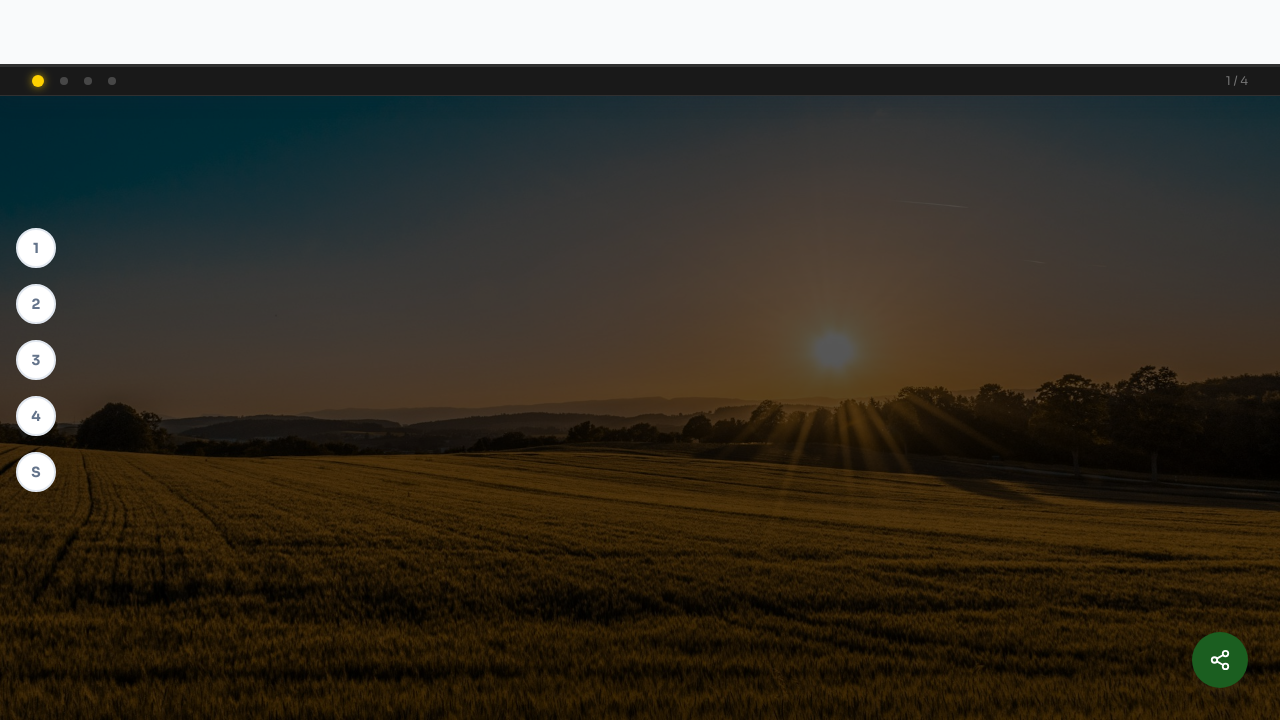
Scenario: StoryPage › closes share modal on close button click
Open modal
Click the button named "Partager": (1220, 660) x1=1192 y1=632 x2=1248 y2=688
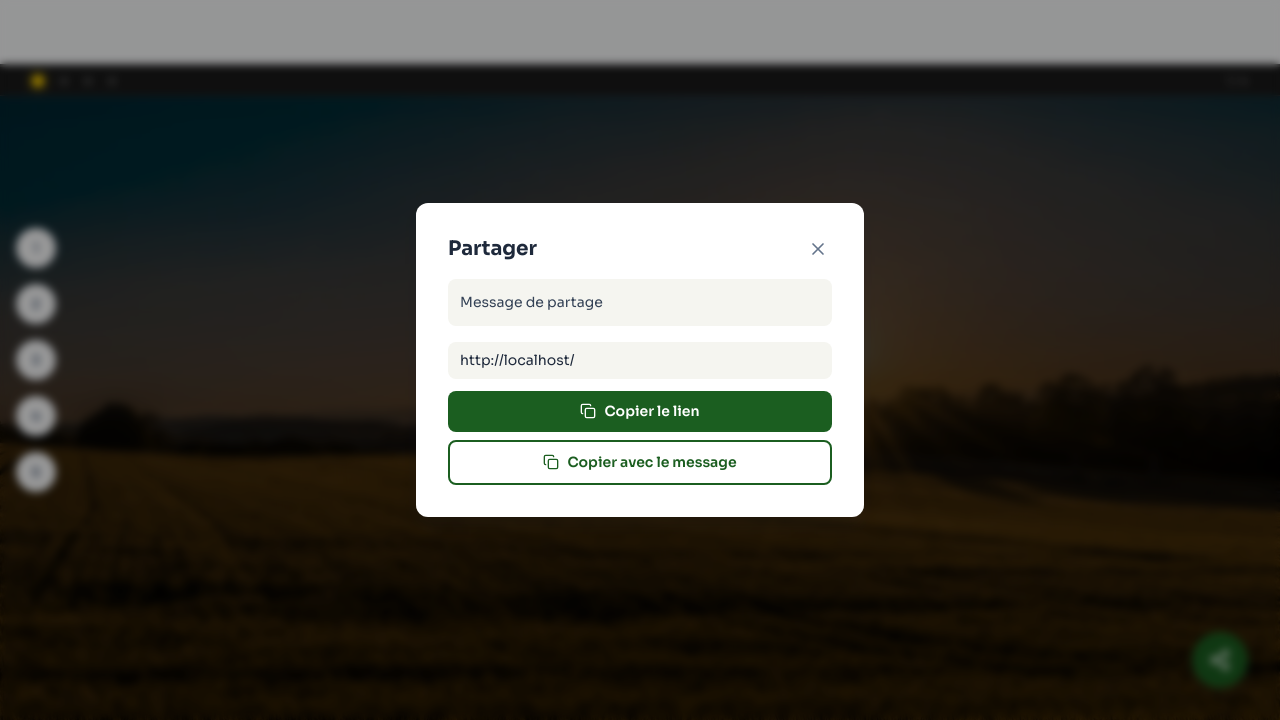
Now the heading "Partager" is shown, box x1=448 y1=236 x2=537 y2=262
Close modal
Click the button named "Fermer": (818, 249) x1=804 y1=235 x2=832 y2=263
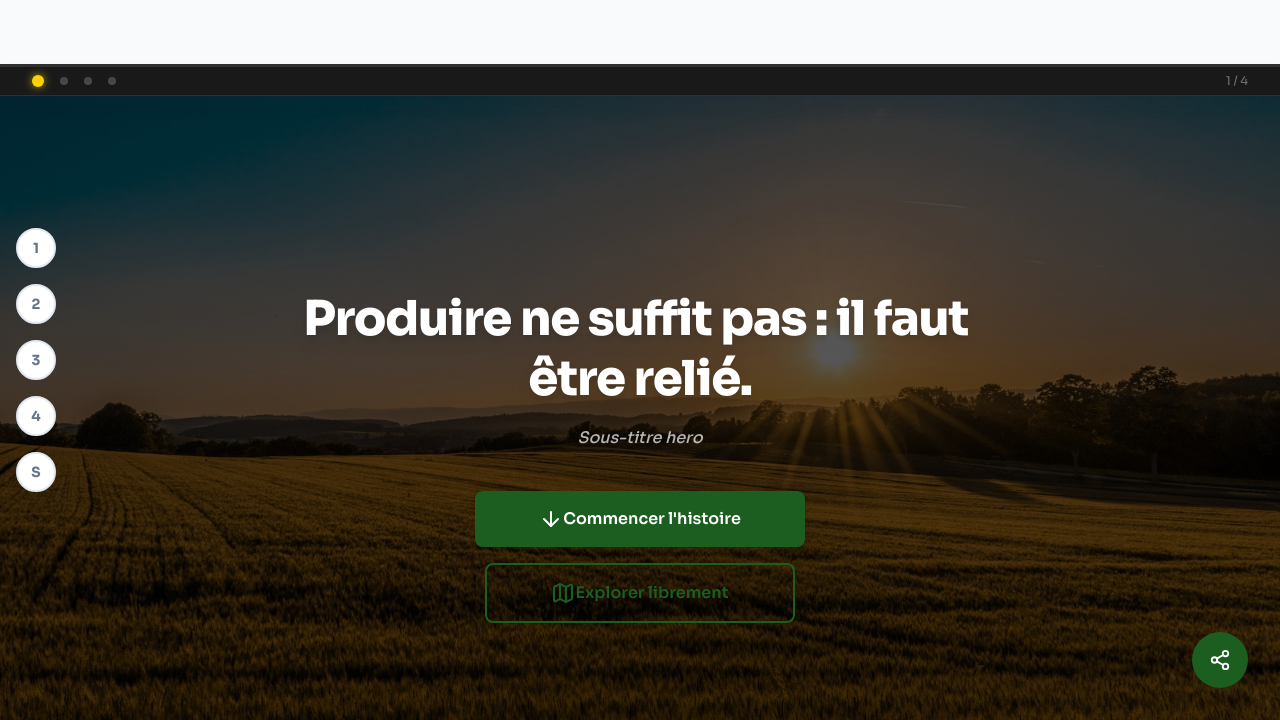
Now the heading "Partager" is gone
